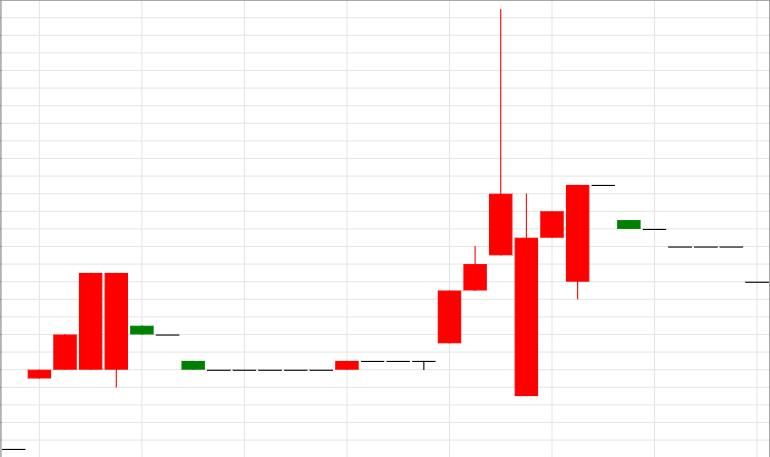shooting_star_fall: (336, 9, 512, 370)
